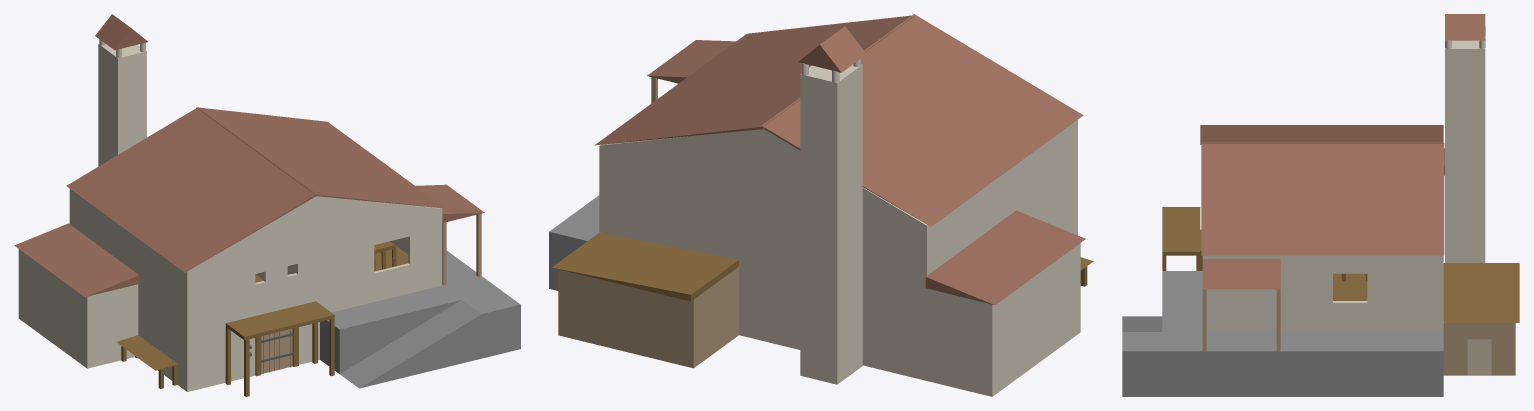
File: Homebase.glb
The picture shows the model from 3 angles, left to right: view 1: azimuth 30°, elevation 25°; view 2: azimuth 150°, elevation 25°; view 3: azimuth 270°, elevation 25°; orthographic projection. The views are drawn at different scales.
Visible parts, largest first — view 1: Mesh_Mesh_head_geo.001_lambert2SG.001; view 2: Mesh_Mesh_head_geo.001_lambert2SG.001; view 3: Mesh_Mesh_head_geo.001_lambert2SG.001.
Part boxes in pixels (left/top/right/bottom): Mesh_Mesh_head_geo.001_lambert2SG.001: left=14, top=14, right=520, bottom=396; Mesh_Mesh_head_geo.001_lambert2SG.001: left=549, top=14, right=1093, bottom=396; Mesh_Mesh_head_geo.001_lambert2SG.001: left=1122, top=14, right=1519, bottom=396.
Size of the model in its own units: 0.207 by 0.1472 by 0.198.
